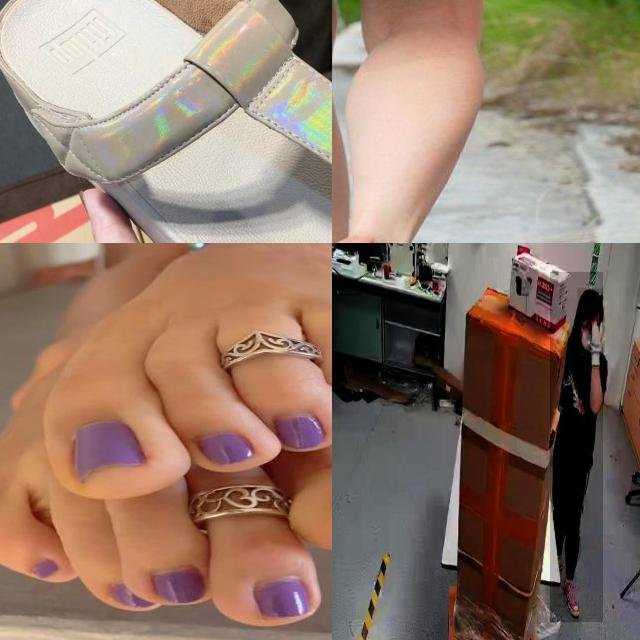Barefoots: (0, 343, 332, 640), (46, 243, 332, 502)
Sandals: (0, 0, 332, 243)
hand_glove: (589, 308, 605, 370)
head_nohelmet: (578, 288, 604, 312)
person: (550, 272, 604, 623)
shoes: (561, 572, 584, 626)
